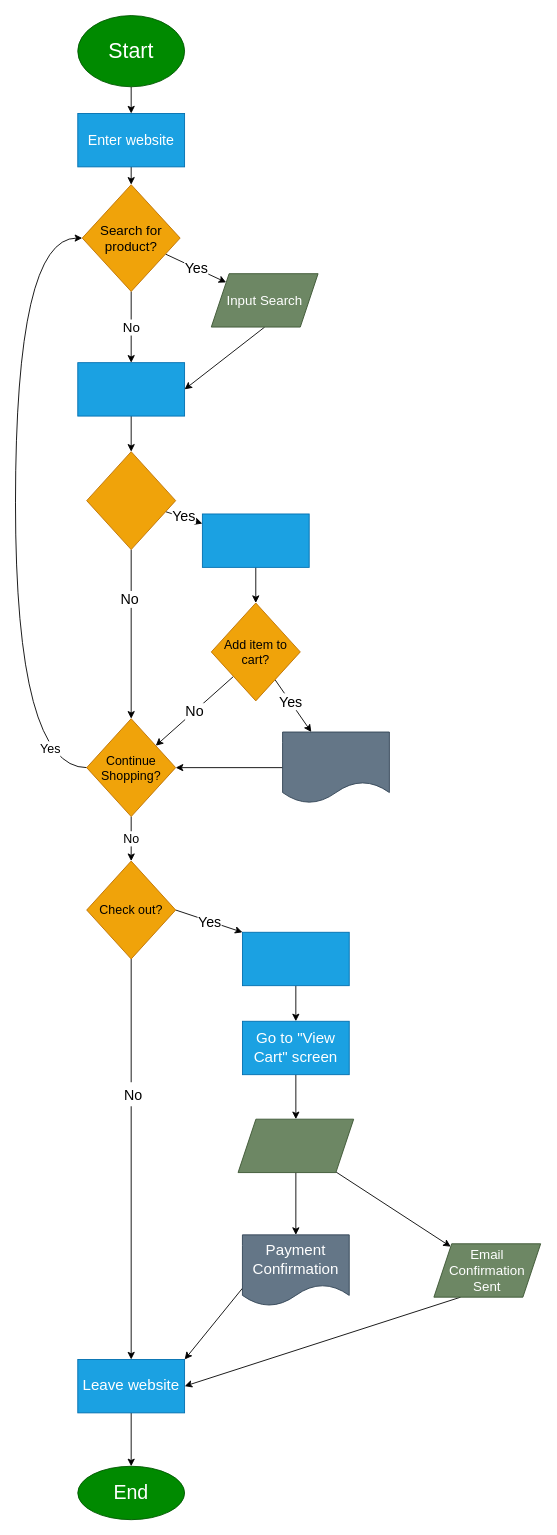
This 557x1535 diagram has some shape labels left out. The centre of each missing label's shape, as x and y in pixels:
Confirmation of addition to cart: pixel 335 767
Input payment info: pixel 295 1145
Look over products: pixel 131 389
Product webpage opens: pixel 255 540
Reach "View Cart" screen: pixel 295 958
View specific product?: pixel 131 500
